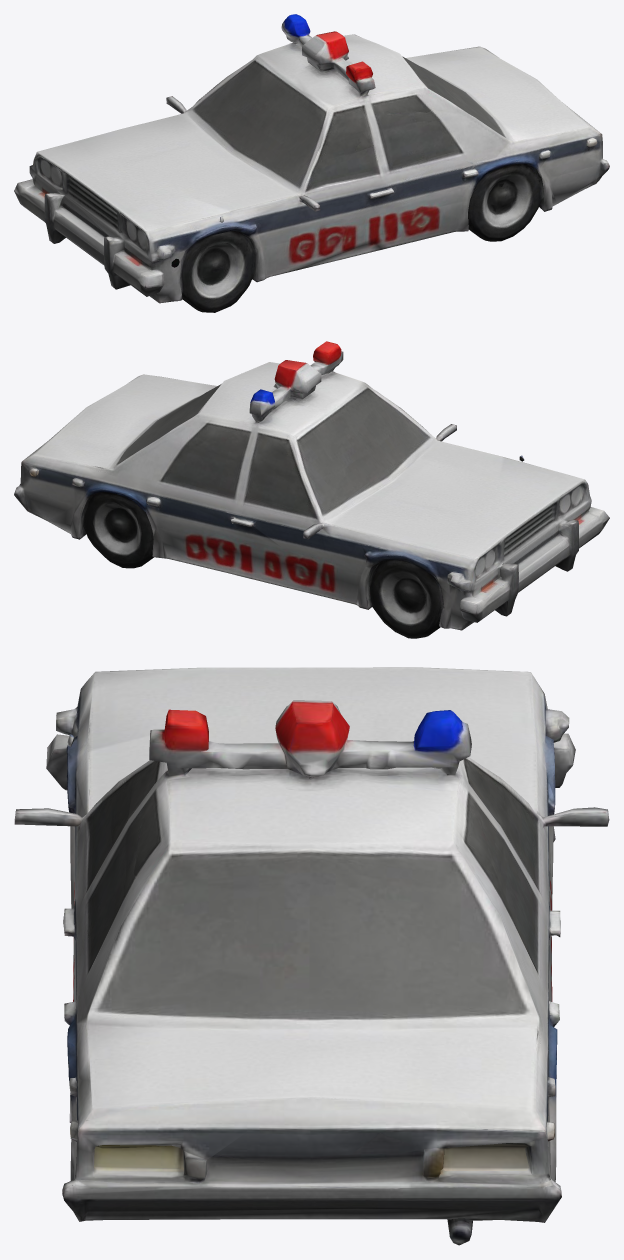
File: police_car.glb
3 renders of one model, top to bottom at view 1: azimuth 30°, elevation 25°; view 2: azimuth 150°, elevation 25°; view 3: azimuth 270°, elevation 25°, orthographic. The views are drawn at different scales.
Parts seen in each view (by area): view 1: police_car; view 2: police_car; view 3: police_car.
Boxes of the visible parts, x1,y1,x2,y2 form: police_car: (14,14,609,312); police_car: (14,341,609,638); police_car: (14,667,609,1245).
Bounding box in the file's own units: 0.9999 × 0.391 × 0.548.
Materials: 1 (1 with a texture image).
